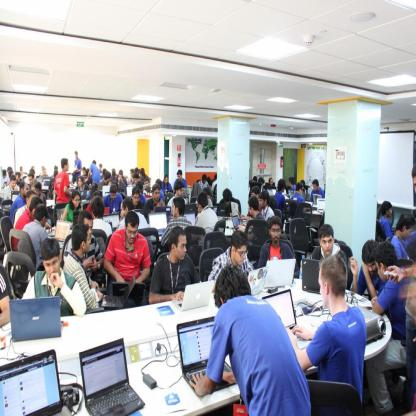board: (78, 336, 145, 416), (177, 317, 237, 395), (0, 348, 63, 415), (262, 290, 312, 349), (10, 298, 63, 342), (171, 281, 214, 310), (101, 274, 135, 309), (209, 202, 246, 229), (264, 259, 296, 289), (302, 259, 323, 293), (248, 267, 268, 296), (112, 283, 144, 300), (148, 212, 167, 234), (54, 221, 70, 246), (48, 214, 62, 237), (102, 214, 119, 231), (154, 207, 170, 222), (134, 210, 150, 224), (70, 211, 80, 229), (184, 211, 196, 226), (185, 204, 197, 216), (317, 199, 325, 213), (312, 194, 322, 205), (41, 180, 50, 190), (305, 200, 313, 211), (80, 190, 89, 199), (102, 186, 110, 196), (126, 187, 134, 196), (182, 189, 189, 197), (164, 190, 173, 196), (104, 208, 109, 213), (105, 192, 110, 197)
